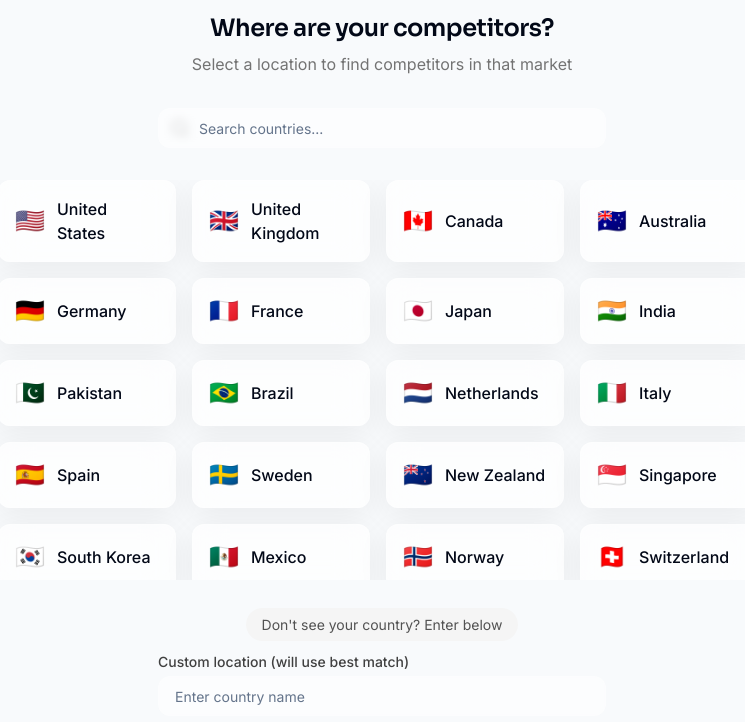
LocationSelector › filters the country grid by the search term
This screenshot has width=745, height=722.
Type "germ" into the field with placeholder "Search countries..." at (382, 128), box [158, 108, 606, 148]
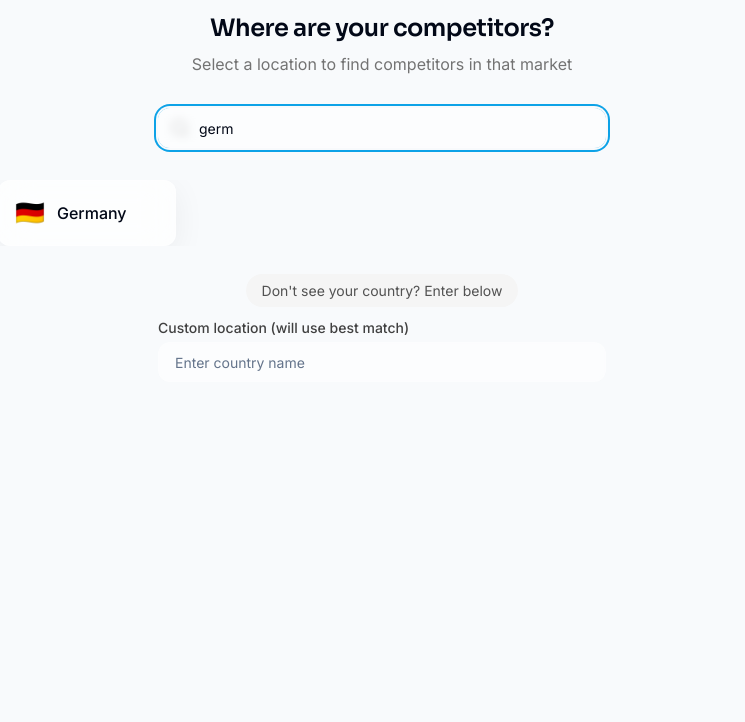
Check: the text "Germany" is shown, box [57, 201, 126, 225]
Check: the text "United States" is gone
